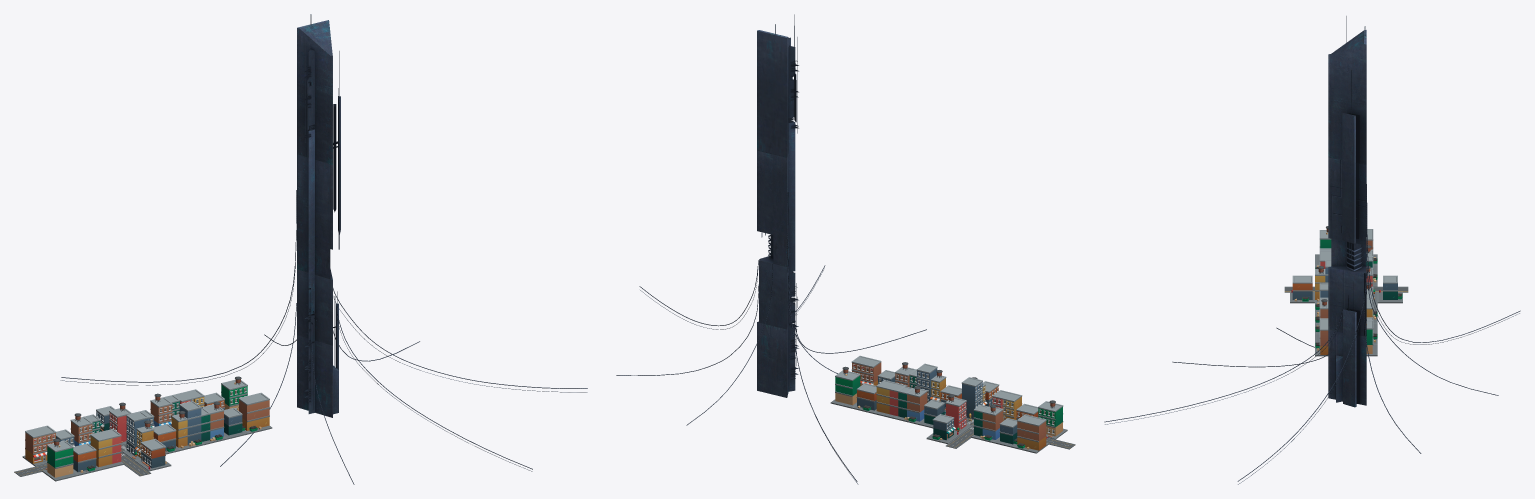
Rendered from CitadelKaykit.glb.
3 renders of one model, left to right at view 1: azimuth 30°, elevation 25°; view 2: azimuth 150°, elevation 25°; view 3: azimuth 270°, elevation 25°, orthographic. The views are drawn at different scales.
Parts seen in each view (by area): view 1: Citadel_001, building_H.001, building_E.001, building_F, building_D, building_H, building_E, building_G.002, building_B.001, building_G.001, building_G, building_B (+1 smaller); view 2: Citadel_001, building_E, building_G.001, building_G, building_D.001, building_F.001, building_H.001, building_D, building_H, building_E.001, building_A.001, building_C (+3 smaller); view 3: Citadel_001, building_B.001, building_A.001.
Boxes of the visible parts, x1=… form: Citadel_001: x1=60, y1=14, x2=587, y2=484; building_H.001: x1=171, y1=401, x2=203, y2=450; building_E.001: x1=238, y1=392, x2=272, y2=433; building_F: x1=90, y1=429, x2=123, y2=470; building_D: x1=42, y1=438, x2=78, y2=481; building_H: x1=122, y1=411, x2=154, y2=460; building_E: x1=22, y1=425, x2=56, y2=466; building_G.002: x1=201, y1=401, x2=226, y2=445; building_B.001: x1=135, y1=438, x2=171, y2=471; building_G.001: x1=150, y1=393, x2=180, y2=426; building_G: x1=70, y1=413, x2=100, y2=446; building_B: x1=73, y1=443, x2=100, y2=475; Citadel_001: x1=616, y1=14, x2=926, y2=484; building_E: x1=1014, y1=414, x2=1048, y2=453; building_G.001: x1=895, y1=386, x2=927, y2=424; building_G: x1=971, y1=404, x2=1003, y2=442; building_D.001: x1=830, y1=366, x2=860, y2=408; building_F.001: x1=874, y1=380, x2=905, y2=419; building_H.001: x1=916, y1=363, x2=946, y2=402; building_D: x1=1038, y1=400, x2=1067, y2=439; building_H: x1=961, y1=377, x2=987, y2=419; building_E.001: x1=851, y1=355, x2=881, y2=385; building_A.001: x1=926, y1=414, x2=960, y2=443; building_C: x1=945, y1=394, x2=972, y2=434; Citadel_001: x1=1104, y1=16, x2=1520, y2=484; building_B.001: x1=1290, y1=275, x2=1314, y2=303; building_A.001: x1=1377, y1=275, x2=1402, y2=303.
Size of the model in its own units: 90 by 66.46 by 66.46.
14 materials, 14 textured.
